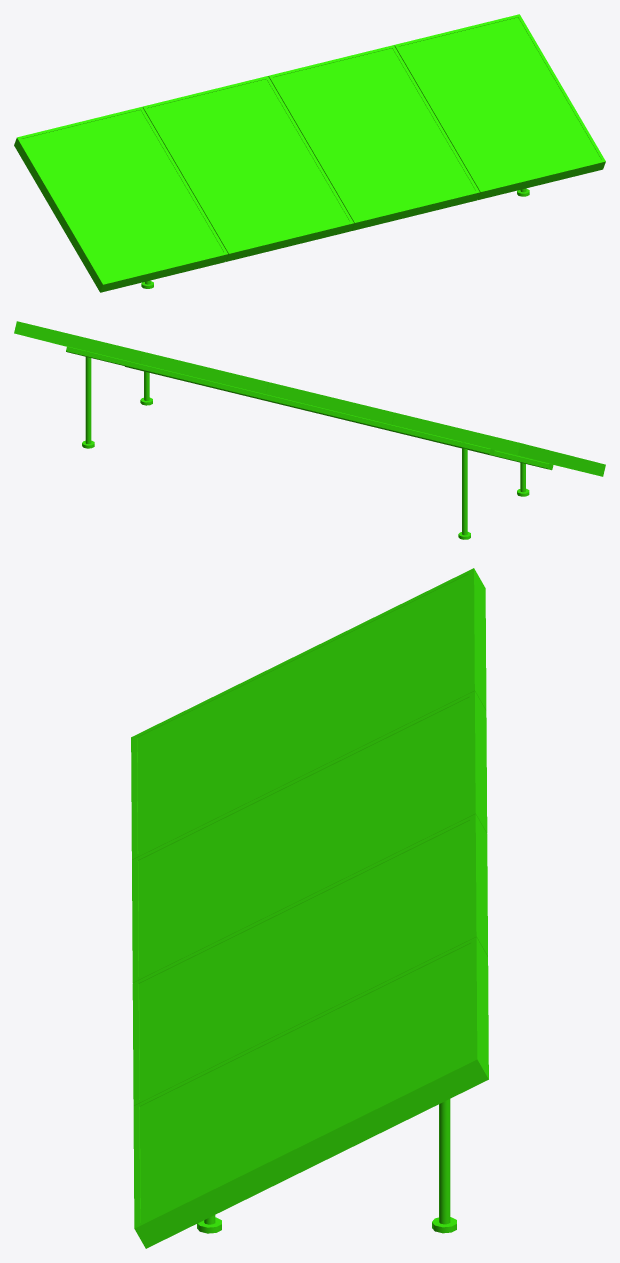
The model's file is Solar panel.fbx.
3 views of the same model, one above another, from view 1: azimuth 30°, elevation 25°; view 2: azimuth 150°, elevation 25°; view 3: azimuth 270°, elevation 25° (orthographic). The views are drawn at different scales.
Parts seen in each view (by area): view 1: Solar panel; view 2: Solar panel; view 3: Solar panel.
Part boxes in pixels (left/top/right/bottom): Solar panel: left=14, top=14, right=605, bottom=292; Solar panel: left=14, top=321, right=605, bottom=539; Solar panel: left=131, top=568, right=488, bottom=1248.
Bounding box in the file's own units: 2024 × 444 × 623.
